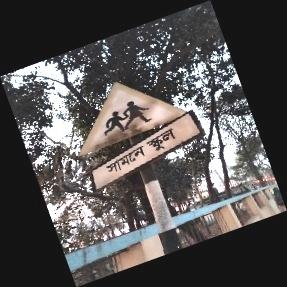School-in-front: (79, 82, 202, 191)
